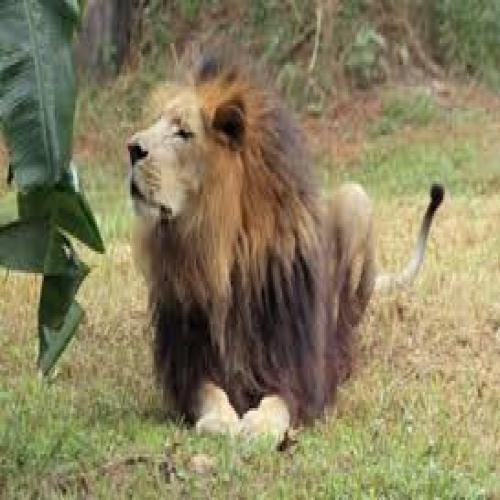lion-endangered: (128, 45, 444, 450)
